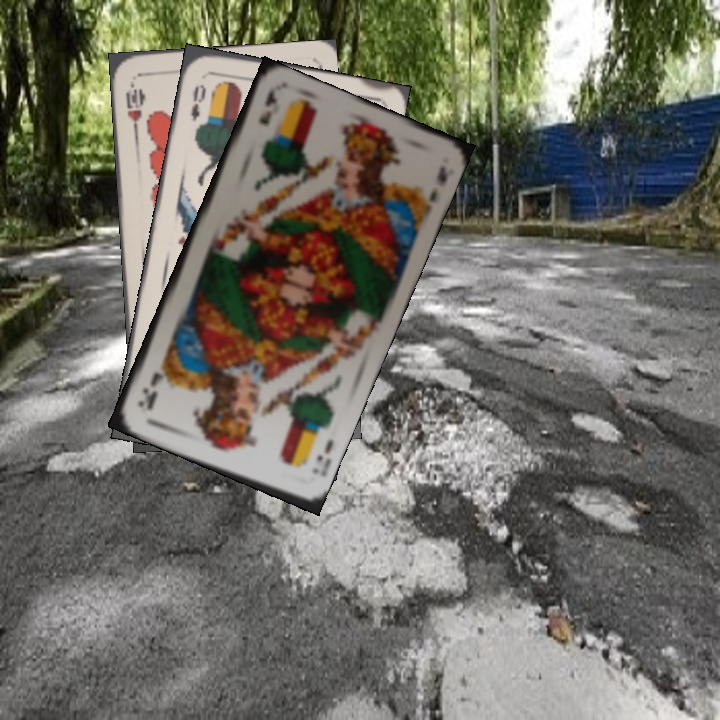EK: (308, 435, 336, 477), (254, 87, 280, 128)
EO: (187, 80, 209, 124)
H10: (122, 78, 146, 136)
